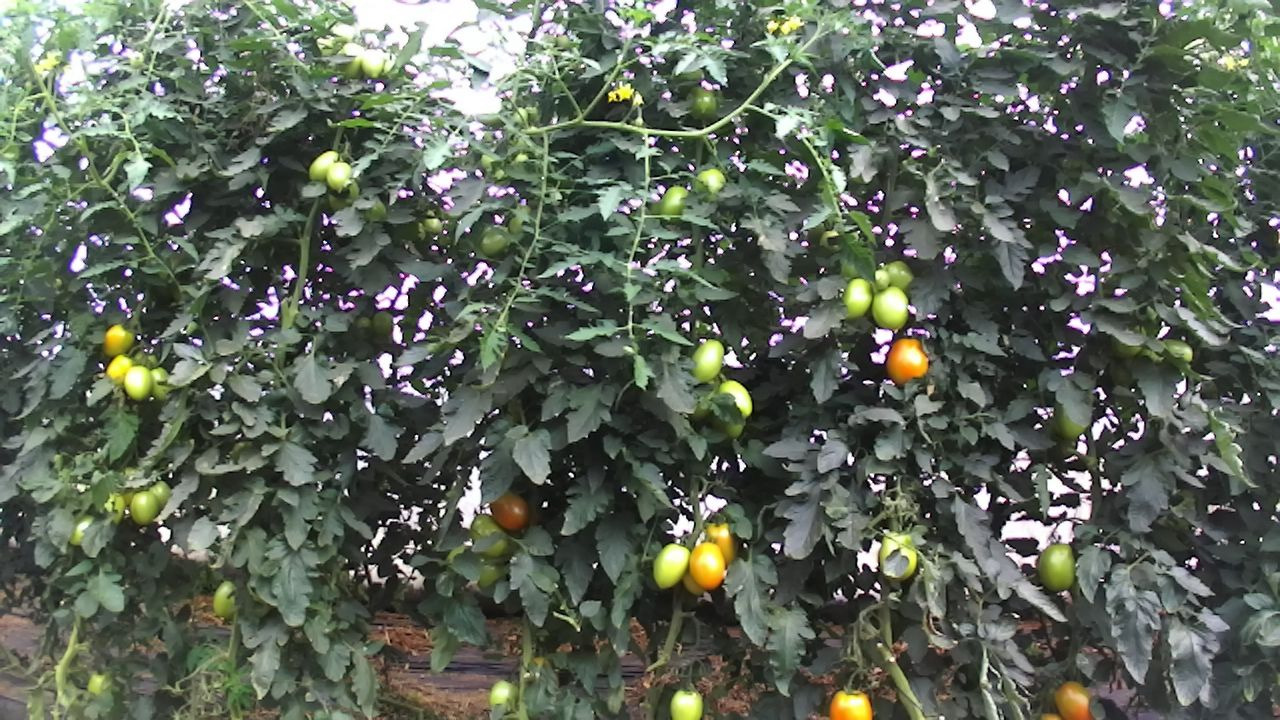tomato: (883, 335, 931, 389), (1035, 539, 1078, 596), (649, 539, 692, 592), (877, 527, 918, 582), (489, 484, 532, 533), (686, 540, 726, 592), (868, 284, 911, 332), (824, 684, 878, 720), (1052, 678, 1098, 720), (687, 333, 724, 385), (839, 274, 876, 321), (702, 518, 738, 564), (716, 377, 755, 418), (98, 321, 135, 358), (667, 685, 706, 720), (127, 488, 161, 528), (121, 364, 154, 403), (210, 580, 239, 620), (488, 675, 520, 711), (307, 147, 340, 181), (324, 159, 353, 191)
